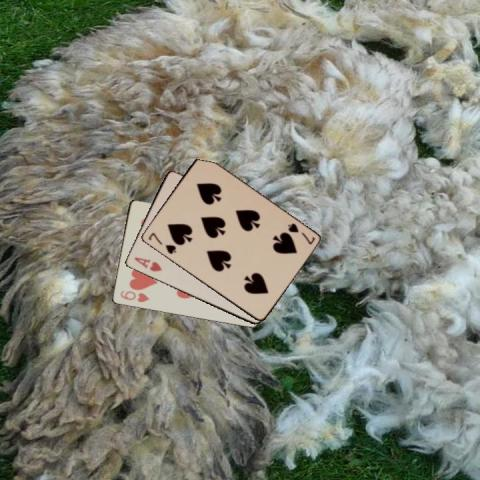6h: (117, 287, 151, 304)
7s: (146, 230, 178, 256), (285, 220, 316, 246)
Ah: (131, 254, 163, 273)
